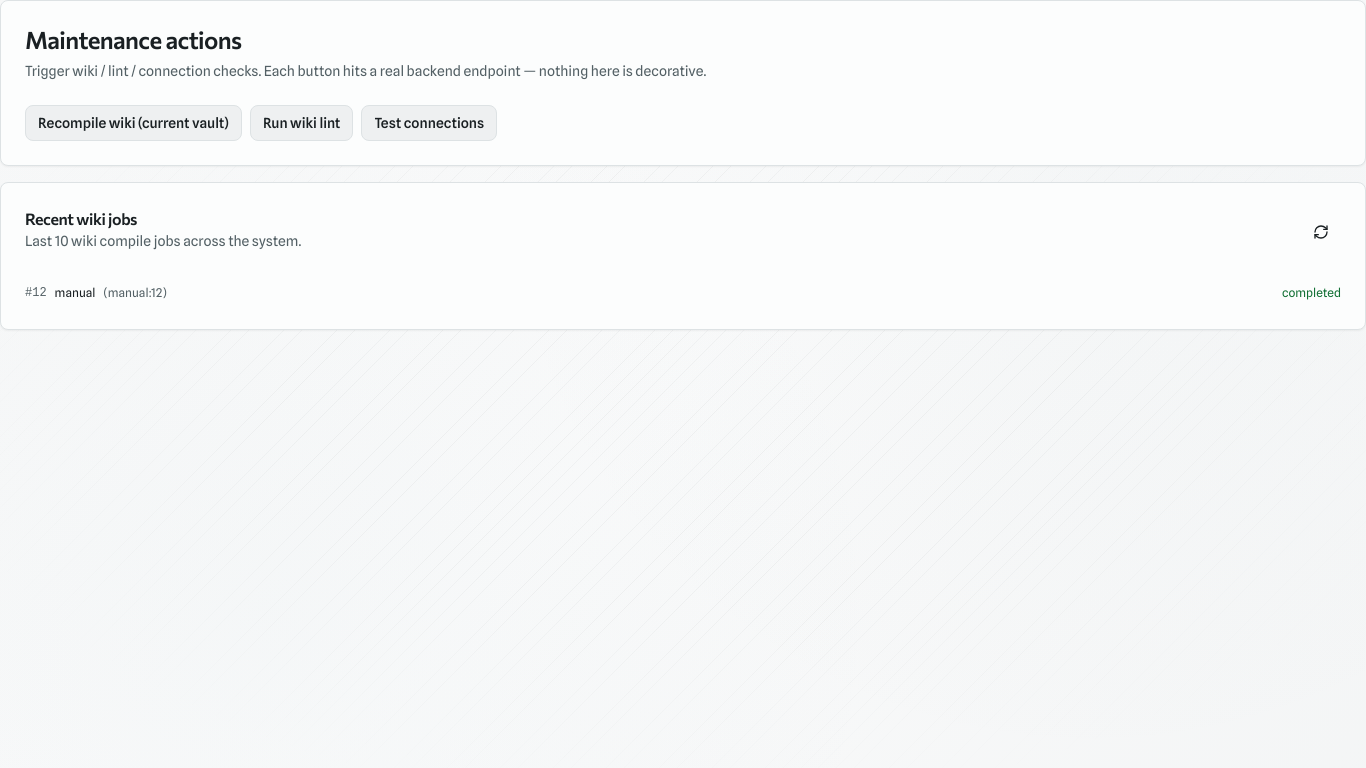
Test: MaintenanceSettings read outcomes and limit contract › retains current-context rows when a refresh fails
The width and height of the screenshot is (1366, 768).
Expected: the text "#12" is shown, [25, 285, 47, 301]
What coordinates should you click on to do the following:
click the button named "Refresh wiki jobs"
I would click on:
 (1321, 232)
Its box is [1301, 212, 1341, 252].
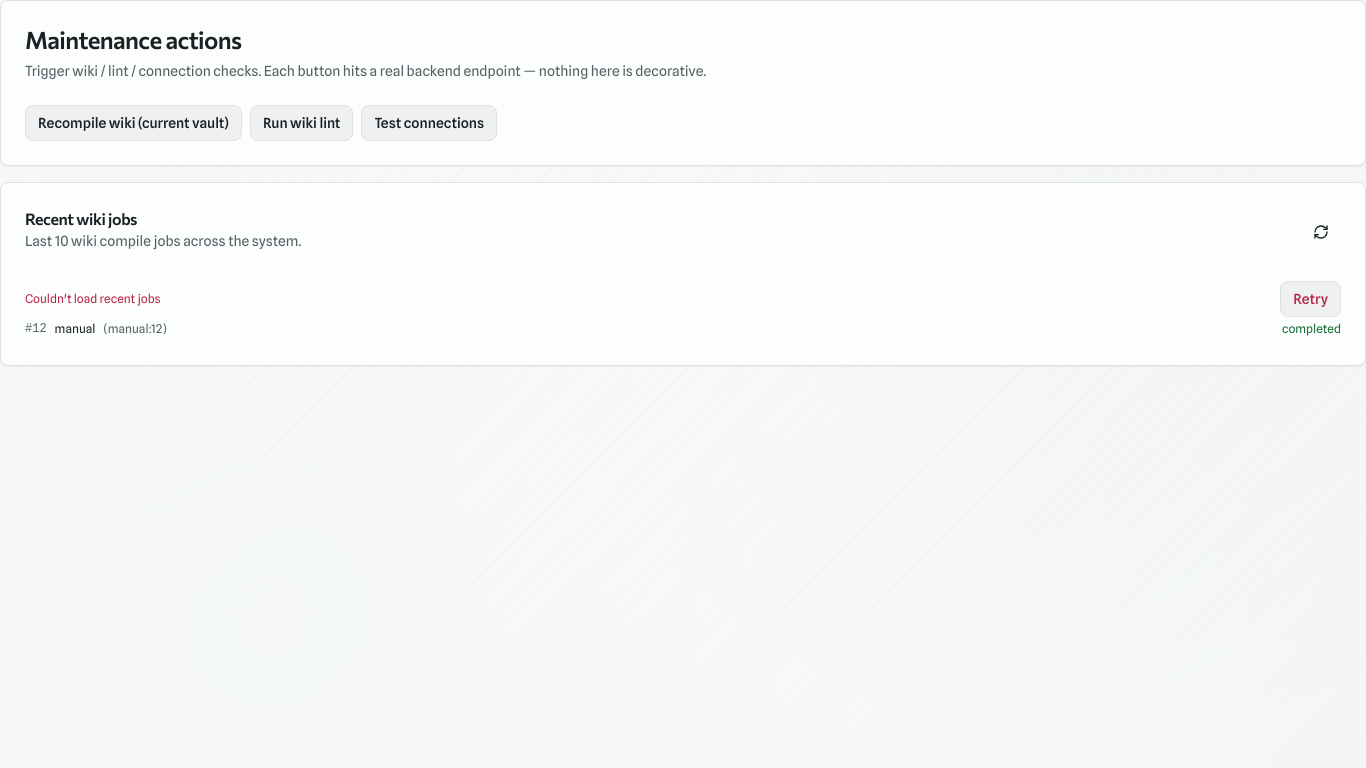
Expected: the text "#12" is shown, [25, 321, 47, 337]
Expected: the message reads "Couldn't load recent jobs Retry", [25, 291, 161, 306]
